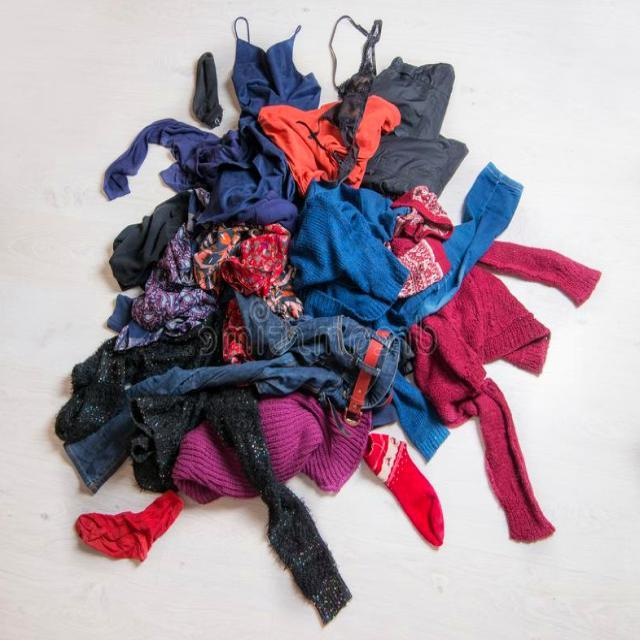clothes: (180, 150, 432, 444), (435, 254, 560, 432), (218, 74, 457, 152), (108, 281, 174, 533)
